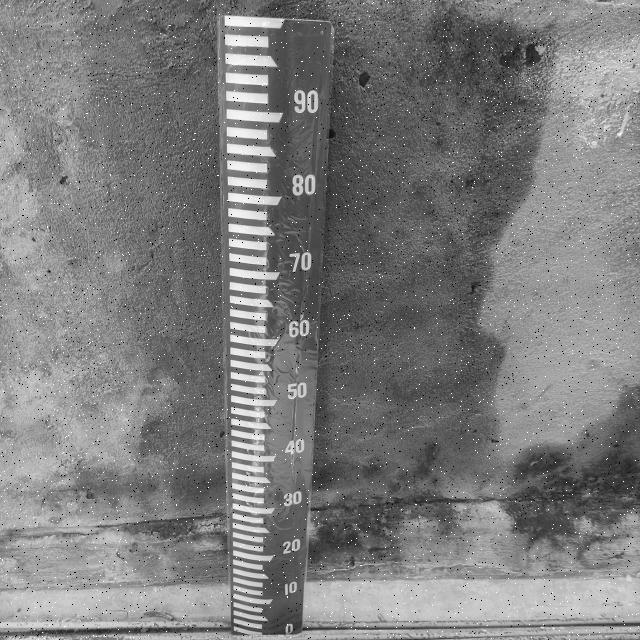20: (281, 536, 305, 558), (281, 578, 301, 598)
30: (282, 487, 306, 511)
40: (279, 433, 308, 460)
50: (285, 378, 309, 403)
60: (288, 316, 311, 340)
70: (289, 249, 315, 273)
80: (289, 168, 318, 200)
90: (290, 86, 320, 118)
staff: (218, 16, 330, 636)
